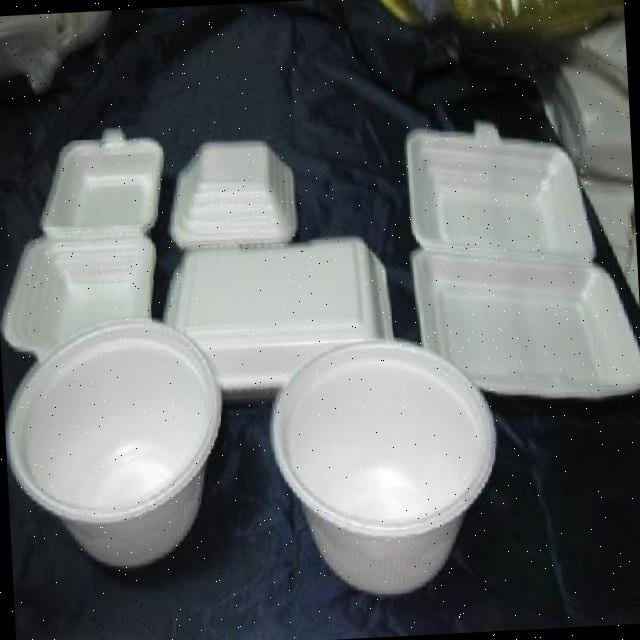styrofoam: (264, 330, 504, 600)
